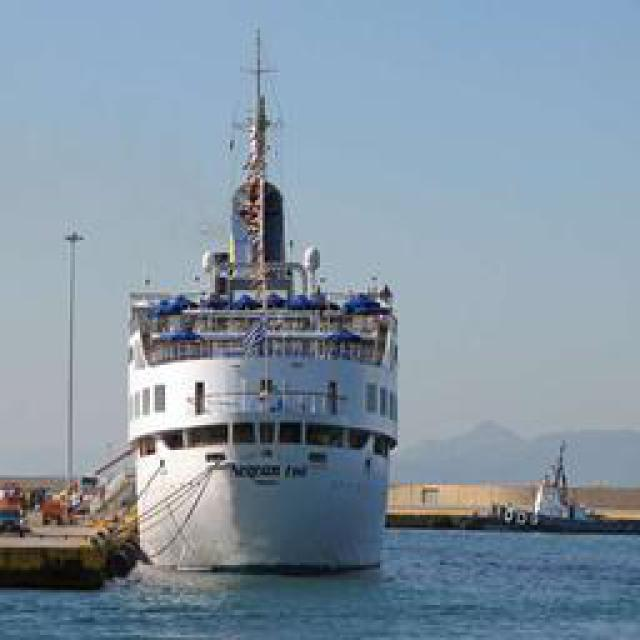Ship: (125, 202, 403, 580)
